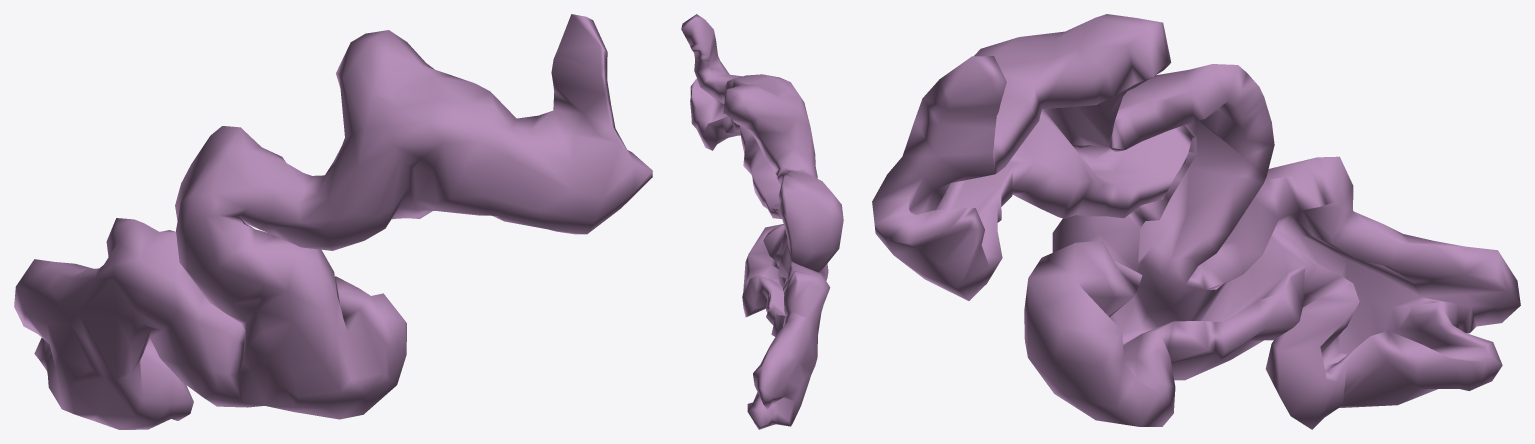
3 renders of one model, left to right at view 1: azimuth 30°, elevation 25°; view 2: azimuth 150°, elevation 25°; view 3: azimuth 270°, elevation 25°, orthographic. The views are drawn at different scales.
Visible parts, largest first — view 1: 右侧中央前回; view 2: 右侧中央前回; view 3: 右侧中央前回.
Part boxes in pixels (x1,y1,x2,y2): 右侧中央前回: [14, 14, 652, 429]; 右侧中央前回: [681, 14, 843, 429]; 右侧中央前回: [872, 14, 1520, 429].
Bounding box in the file's own units: 0.0716 × 0.0819 × 0.0903.
